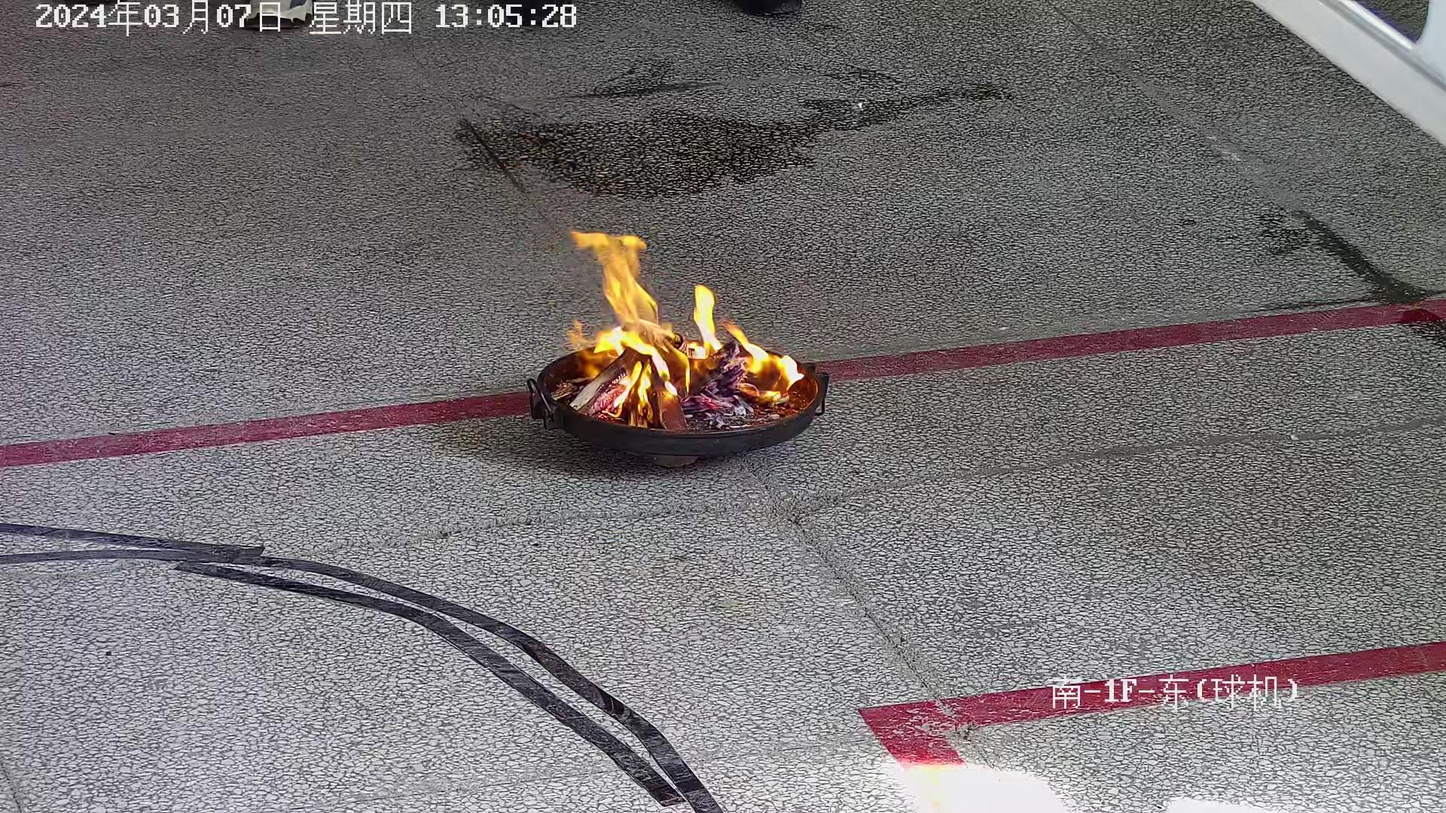fire: (568, 232, 723, 431), (725, 323, 804, 401)
